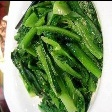youmaicai: (10, 0, 105, 112)
